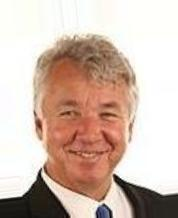face: (58, 100, 120, 166)
